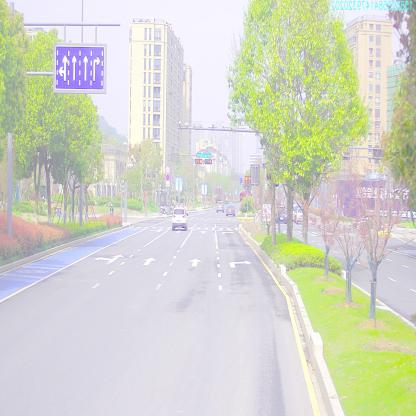traffic-light: (197, 152, 211, 160), (204, 158, 212, 166), (195, 158, 202, 165)
